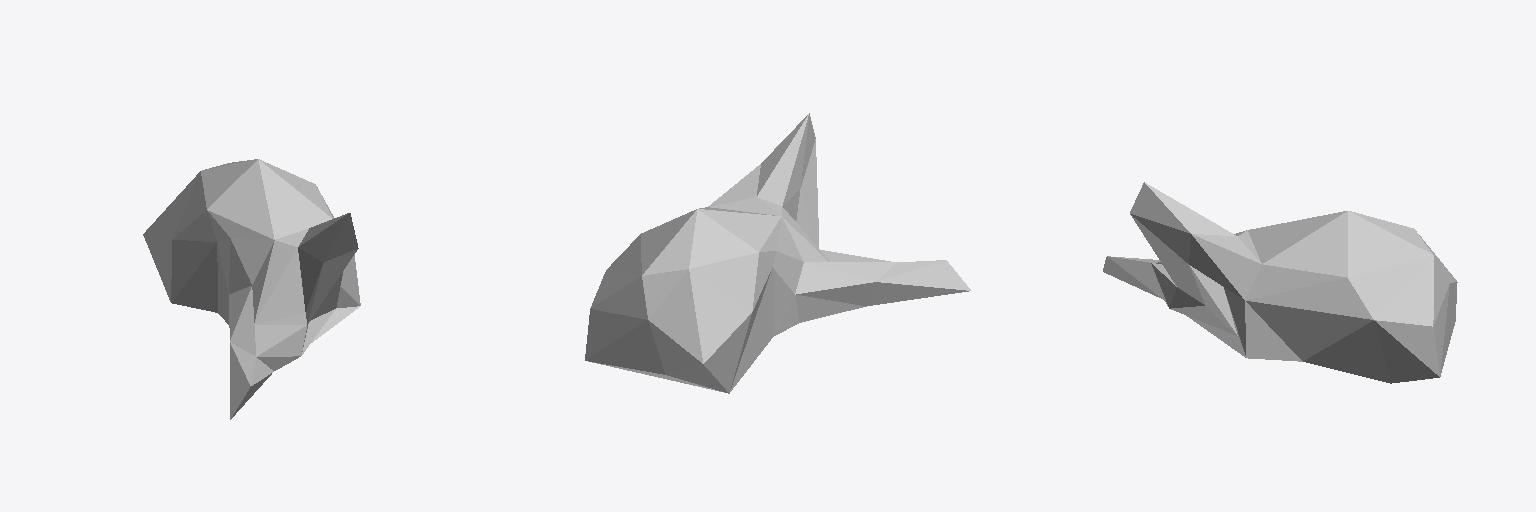
File: sim_ecub_1-1_l_hand_index_1.obj
3 renders of one model, left to right at view 1: azimuth 30°, elevation 25°; view 2: azimuth 150°, elevation 25°; view 3: azimuth 270°, elevation 25°, orthographic.
Bounding box in the file's own units: 35.84 × 25.87 × 47.91.